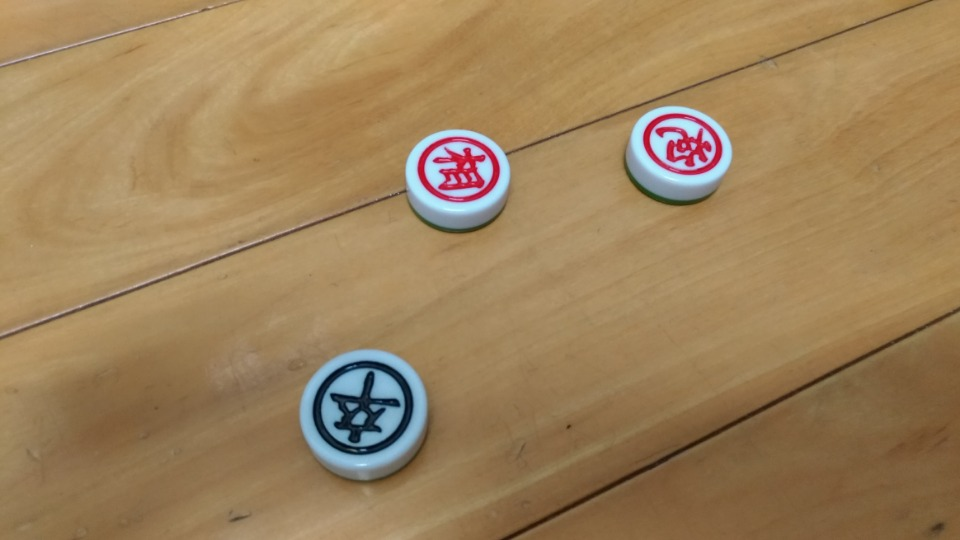b-pawn: (282, 337, 446, 485)
r-cannon: (618, 89, 745, 215)
r-elephant: (397, 119, 527, 235)
